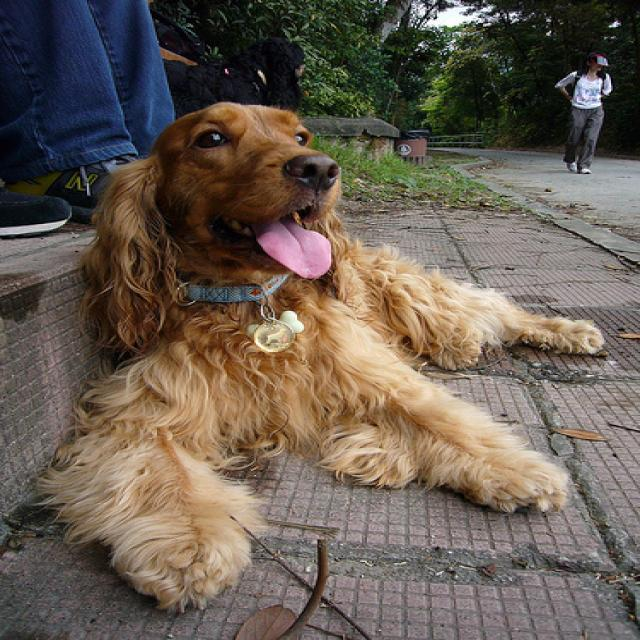dog-english_cocker_spaniel: (34, 91, 604, 612)
